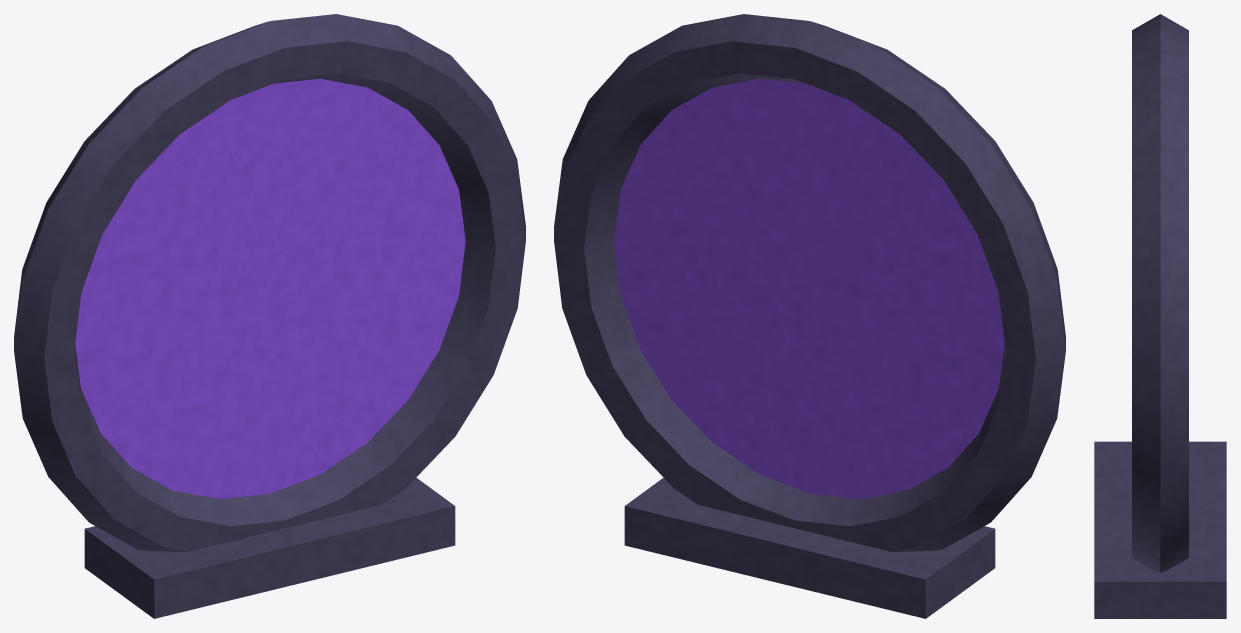
The model's file is portal.fbx.
3 views of the same model, side by side, from view 1: azimuth 30°, elevation 25°; view 2: azimuth 150°, elevation 25°; view 3: azimuth 270°, elevation 25° (orthographic). The views are drawn at different scales.
Visible parts, largest first — view 1: Portal; view 2: Portal; view 3: Portal.
Boxes of the visible parts, x1,y1,x2,y2 form: Portal: [14, 14, 525, 618]; Portal: [554, 14, 1065, 618]; Portal: [1094, 14, 1226, 618].
Bounding box in the file's own units: 4.53 × 4.53 × 1.07.
Materials: 1 (1 with a texture image).
